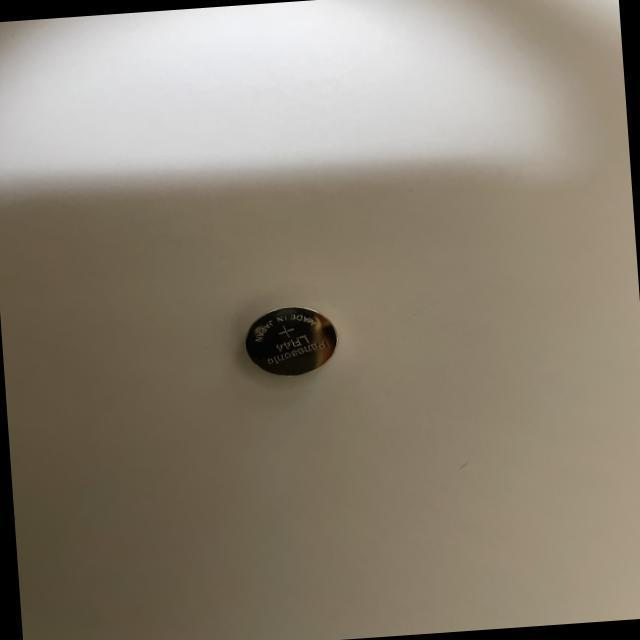COIN: (238, 300, 341, 380)
